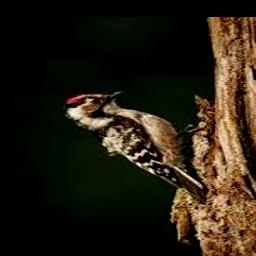Woodpecker: (62, 90, 205, 202)
